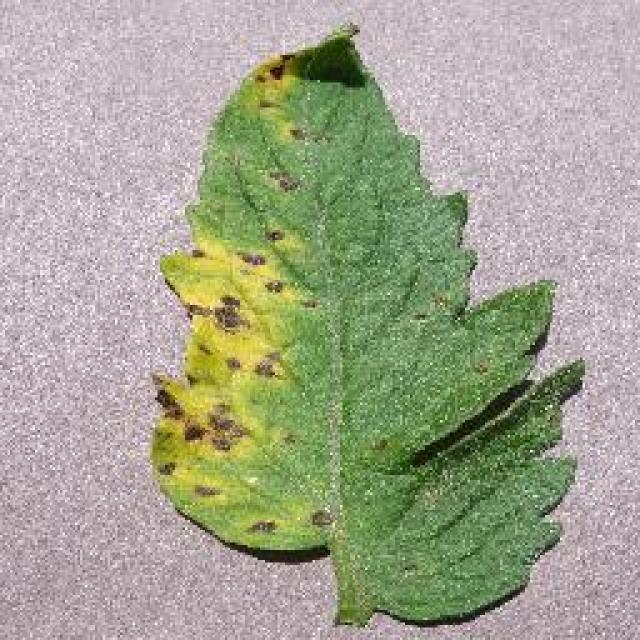Tomato Septoria spot leaf: (149, 24, 587, 628)
